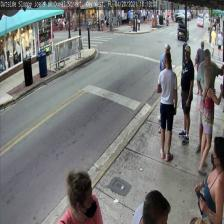person: (156, 52, 177, 160), (158, 44, 170, 122), (194, 40, 207, 94)
